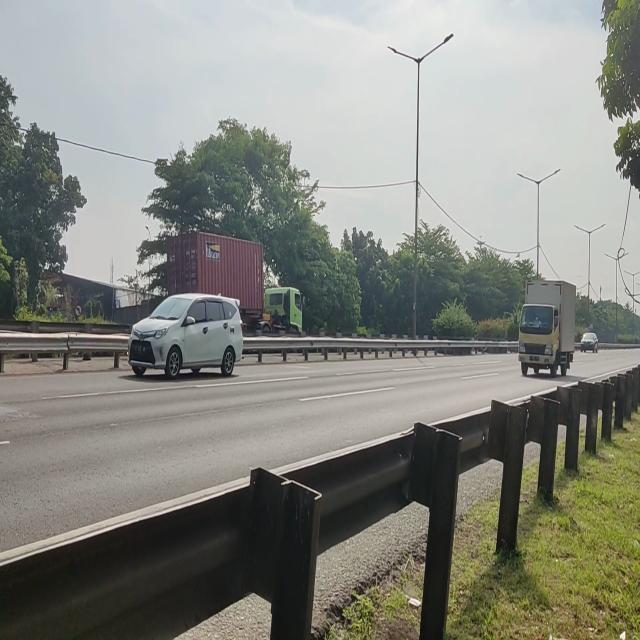Golongan I: (127, 288, 246, 382)
